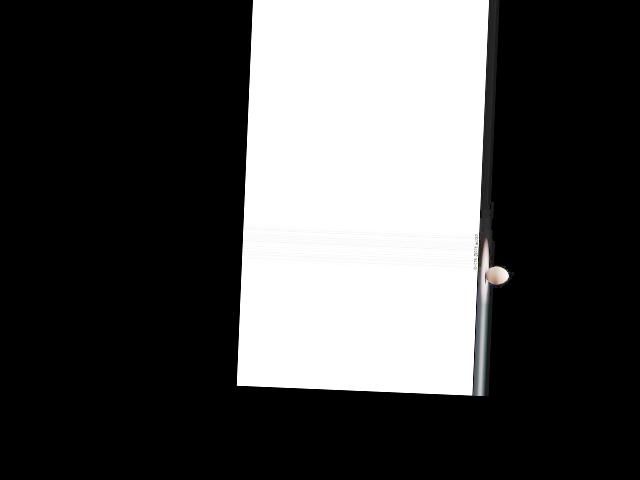egg: (484, 265, 508, 285)
